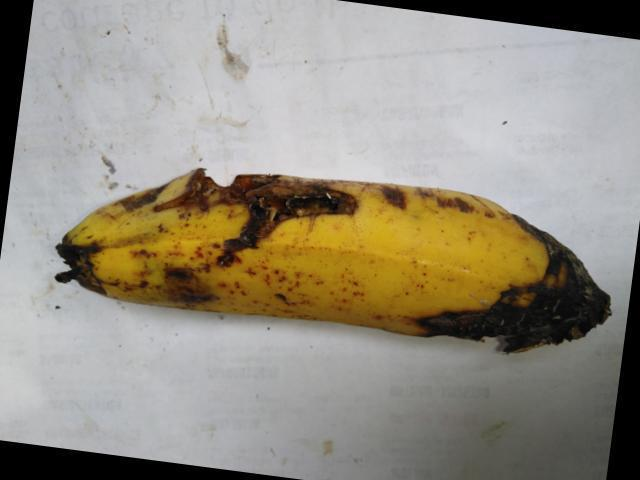rotten: (420, 184, 629, 371), (122, 139, 377, 270)
